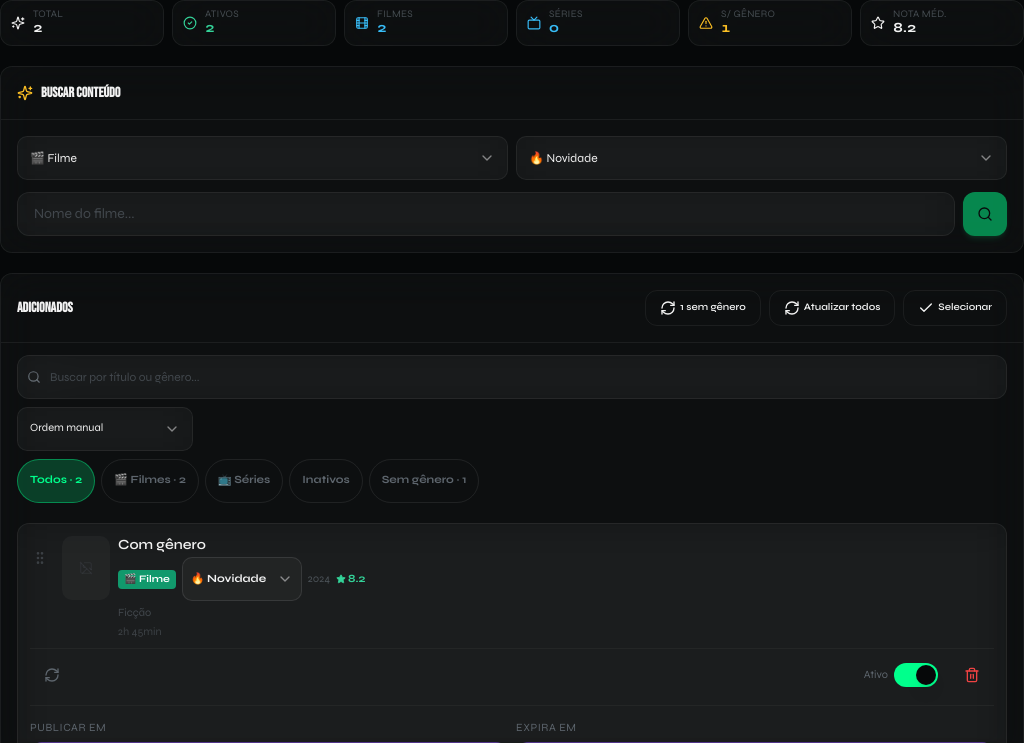
AdminNovidades › filtra por chip 'Sem gênero'
Click the button "Sem gênero · 1" at point(424, 480), box [369,458,479,502]
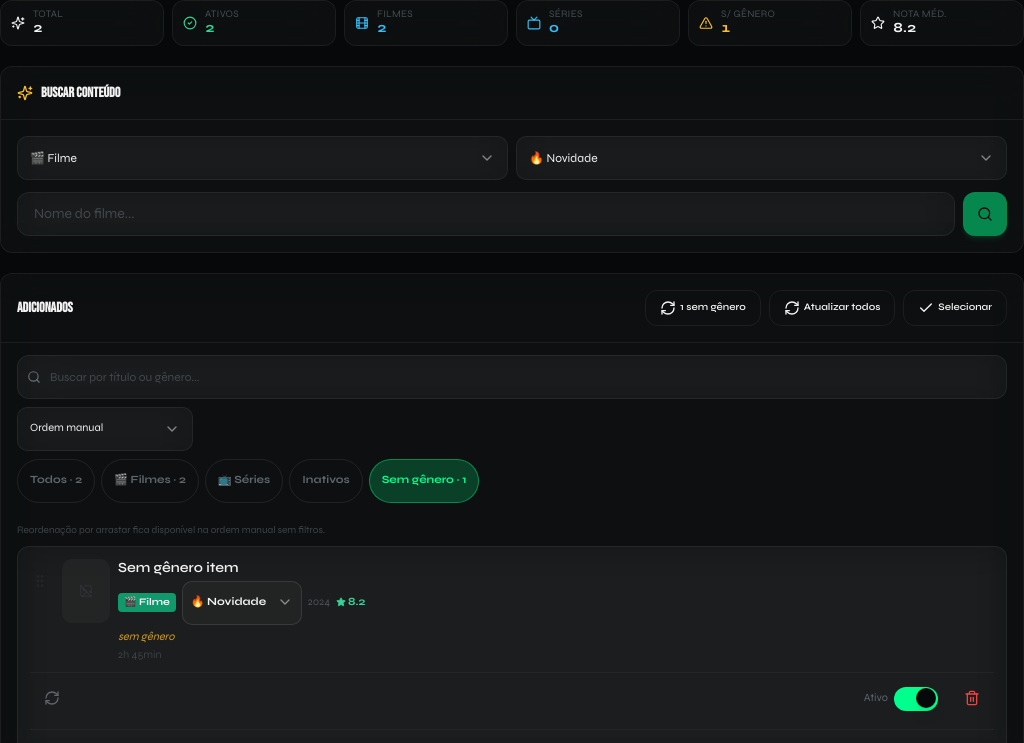
Check: the text "Sem gênero item" is shown, box [118,558,238,576]
Check: the text "Com gênero" is gone
